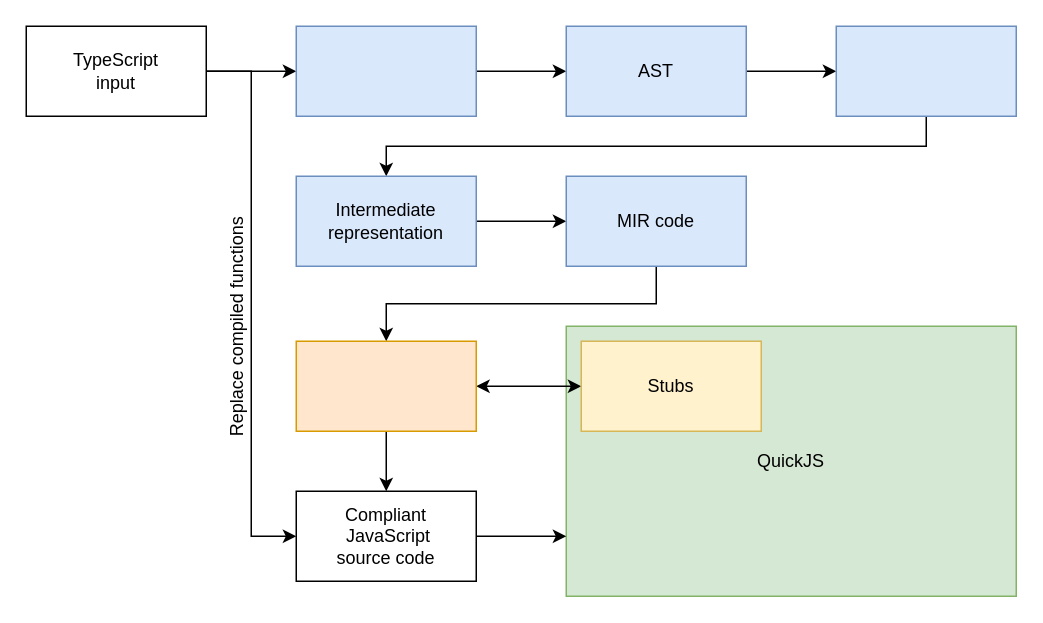
The diagram is 1043 pixels wide and 623 high, and some of its shapes have lost their labels. The box of each missing label's shape, as (x1, y1, x2, y2) in pixels:
Compiled functions: (295, 340, 476, 431)
Function declarations: (835, 25, 1016, 116)
Tokens: (295, 25, 476, 116)
